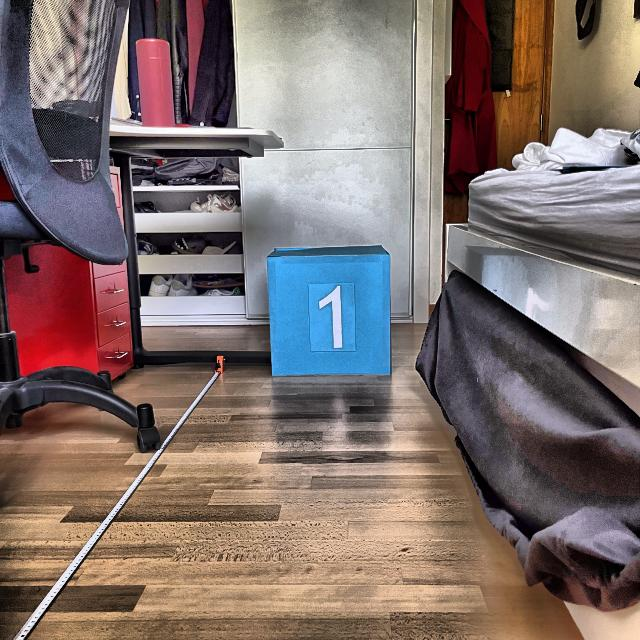blue box: (266, 245, 394, 376)
one: (314, 283, 349, 349)
